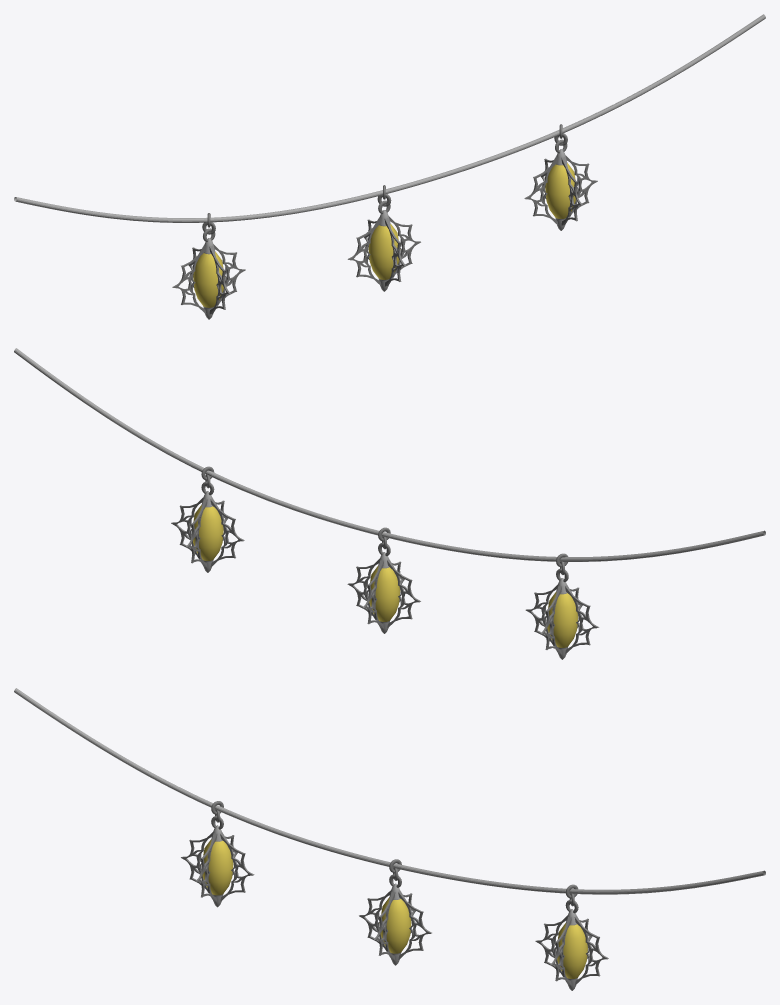
Rendered from Traffic_Lights.fbx.
The picture shows the model from 3 angles, top to bottom: view 1: azimuth 30°, elevation 25°; view 2: azimuth 150°, elevation 25°; view 3: azimuth 330°, elevation 25°; orthographic projection.
Parts seen in each view (by area): view 1: string2, light_4, light_5, light_6; view 2: string2, light_6, light_4, light_5; view 3: string2, light_4, light_5, light_6.
Boxes of the visible parts, box(x1,y1,x2,y2) form: string2: box(14, 14, 765, 222); light_4: box(172, 213, 245, 319); light_5: box(347, 185, 420, 291); light_6: box(524, 124, 597, 230); string2: box(14, 348, 765, 561); light_6: box(171, 466, 244, 572); light_4: box(525, 553, 599, 659); light_5: box(347, 527, 420, 633); string2: box(14, 688, 765, 894); light_4: box(181, 801, 254, 907); light_5: box(359, 859, 431, 965); light_6: box(535, 884, 608, 990).
Size of the model in its own units: 4.25 by 1.03 by 0.4275.
